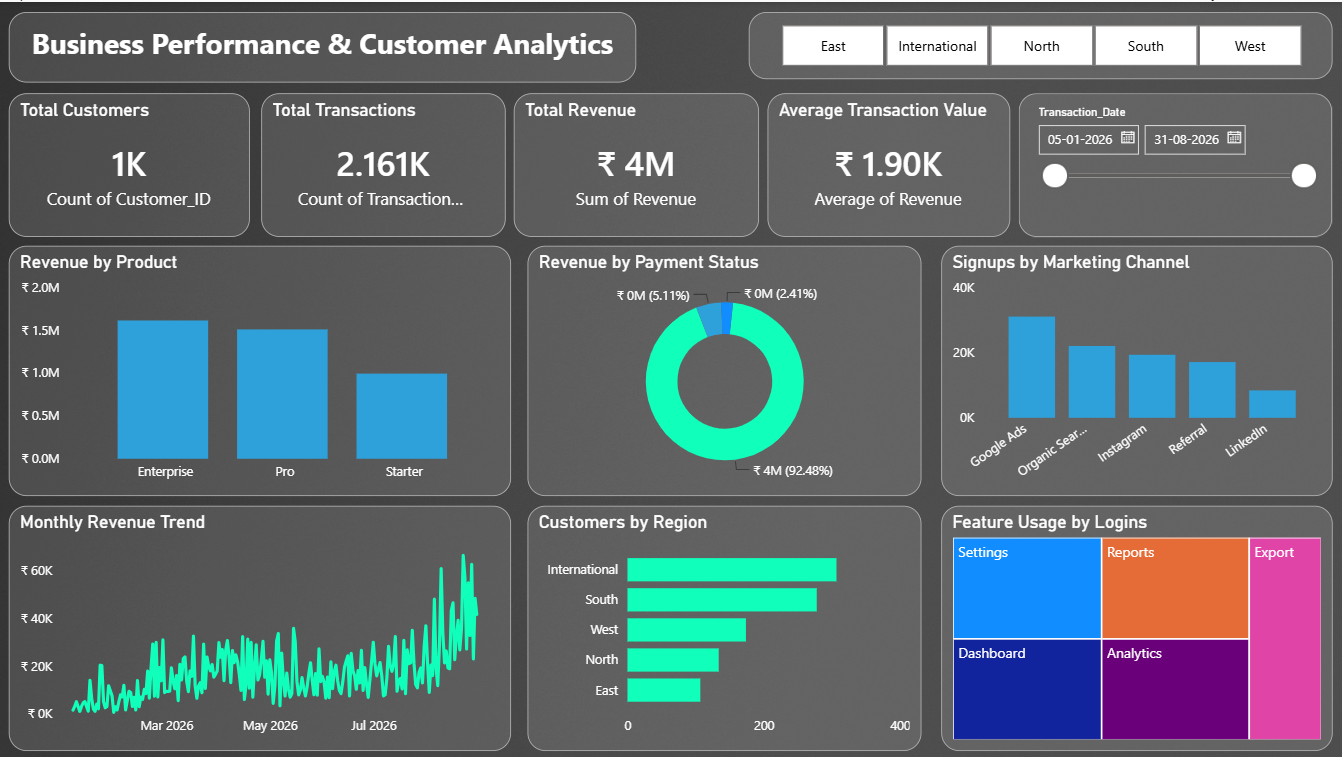

What the dashboard file says about the page in this screenshot:
{"tool":"powerbi","page":{"name":"Page 1","canvas":[1280,720],"ordinal":0},"visuals":[{"type":"textbox","box":[8.7,9.9,597.9,67.1],"z":0},{"type":"cardVisual","title":"Total Customers","fields":{"Data":["Count(Customers_Clean.Customer_ID)"]},"box":[8.7,87,229.9,136.7],"z":1},{"type":"cardVisual","title":"Total Transactions","fields":{"Data":["Count(Transactions_Clean.Transaction_ID)"]},"box":[248.6,87,232.4,136.7],"z":2},{"type":"cardVisual","title":"Total Revenue","fields":{"Data":["Sum(Transactions_Clean.Revenue)"]},"box":[489.7,87,233.7,136.7],"z":3},{"type":"cardVisual","title":"Average Transaction Value","fields":{"Data":["Avg(Transactions_Clean.Revenue)"]},"box":[731,86.9,231,136.9],"z":4},{"type":"clusteredColumnChart","title":"Revenue by Product","fields":{"Category":["Transactions_Clean.Product"],"Y":["Sum(Transactions_Clean.Revenue)"]},"box":[8.7,232.4,478.5,238.6],"z":5},{"type":"lineChart","title":"Monthly Revenue Trend","fields":{"Y":["Sum(Transactions_Clean.Revenue)"],"Category":["Transactions_Clean.Transaction_Date.Variation.Date Hierarchy.Year","Transactions_Clean.Transaction_Date.Variation.Date Hierarchy.Quarter","Transactions_Clean.Transaction_Date.Variation.Date Hierarchy.Month","Transactions_Clean.Transaction_Date.Variation.Date Hierarchy.Day"]},"box":[8.7,479.8,478.5,233.7],"z":6},{"type":"donutChart","title":"Revenue by Payment Status","fields":{"Y":["Sum(Transactions_Clean.Revenue)"],"Category":["Transactions_Clean.Payment_Status"]},"box":[502.2,232.4,375.4,238.6],"z":7},{"type":"treemap","title":"Feature Usage by Logins","fields":{"Group":["User_Activity_Clean.Feature_Used"],"Values":["Sum(User_Activity_Clean.Login_Count)"]},"box":[896.2,479.8,372.9,233.7],"z":8},{"type":"clusteredBarChart","title":"Customers by Region","fields":{"Category":["Customers_Clean.Region"],"Y":["CountNonNull(Customers_Clean.Customer_ID)"]},"box":[502.2,479.8,375.4,233.7],"z":9},{"type":"clusteredColumnChart","title":"Signups by Marketing Channel","fields":{"Category":["Marketing_Campaigns.Channel"],"Y":["Sum(Marketing_Campaigns.Signups)"]},"box":[896.2,232.4,372.9,238.6],"z":10},{"type":"slicer","fields":{"Values":["Transactions_Clean.Transaction_Date"]},"box":[970.8,87,298.3,136.7],"z":11},{"type":"slicer","fields":{"Values":["Customers_Clean.Region"]},"box":[713.1,9.5,556,64.3],"z":12}]}

Visuals, with their boxes in screenshot pixels (x1, y1, x2, y2), scaled from the page's 1280x720 canvas onto the 1342x757 screenshot:
textbox: crop(9, 10, 636, 81)
"Total Customers" cardVisual: crop(9, 91, 250, 235)
"Total Transactions" cardVisual: crop(261, 91, 504, 235)
"Total Revenue" cardVisual: crop(513, 91, 758, 235)
"Average Transaction Value" cardVisual: crop(766, 91, 1009, 235)
"Revenue by Product" clusteredColumnChart: crop(9, 244, 511, 495)
"Monthly Revenue Trend" lineChart: crop(9, 504, 511, 750)
"Revenue by Payment Status" donutChart: crop(527, 244, 920, 495)
"Feature Usage by Logins" treemap: crop(940, 504, 1331, 750)
"Customers by Region" clusteredBarChart: crop(527, 504, 920, 750)
"Signups by Marketing Channel" clusteredColumnChart: crop(940, 244, 1331, 495)
slicer - Transactions_Clean.Transaction_Date: crop(1018, 91, 1331, 235)
slicer - Customers_Clean.Region: crop(748, 10, 1331, 78)
